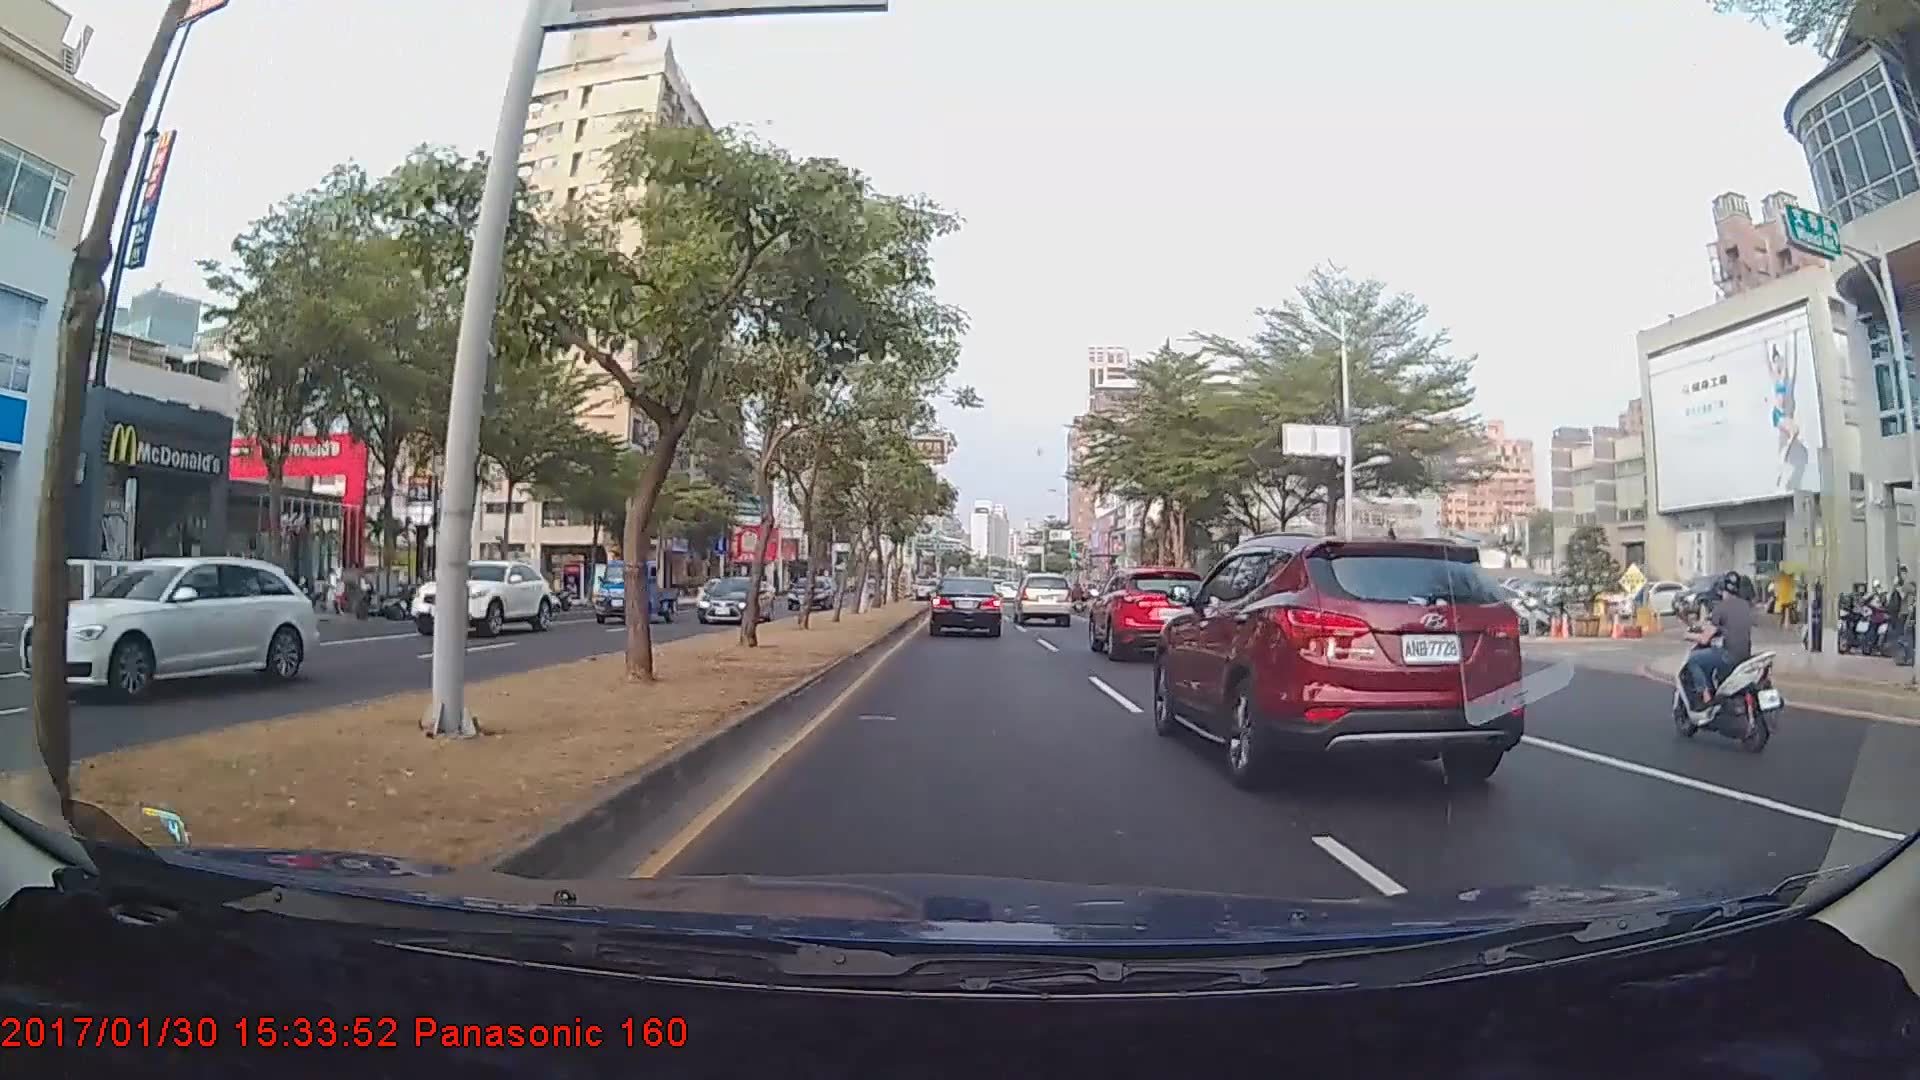rider: (1664, 567, 1786, 757)
vehicle: (1159, 530, 1517, 776), (18, 553, 318, 705), (1086, 567, 1209, 661), (409, 560, 556, 637), (592, 557, 680, 624), (930, 576, 1002, 637), (696, 572, 770, 627), (1013, 572, 1072, 627), (788, 574, 833, 612)
